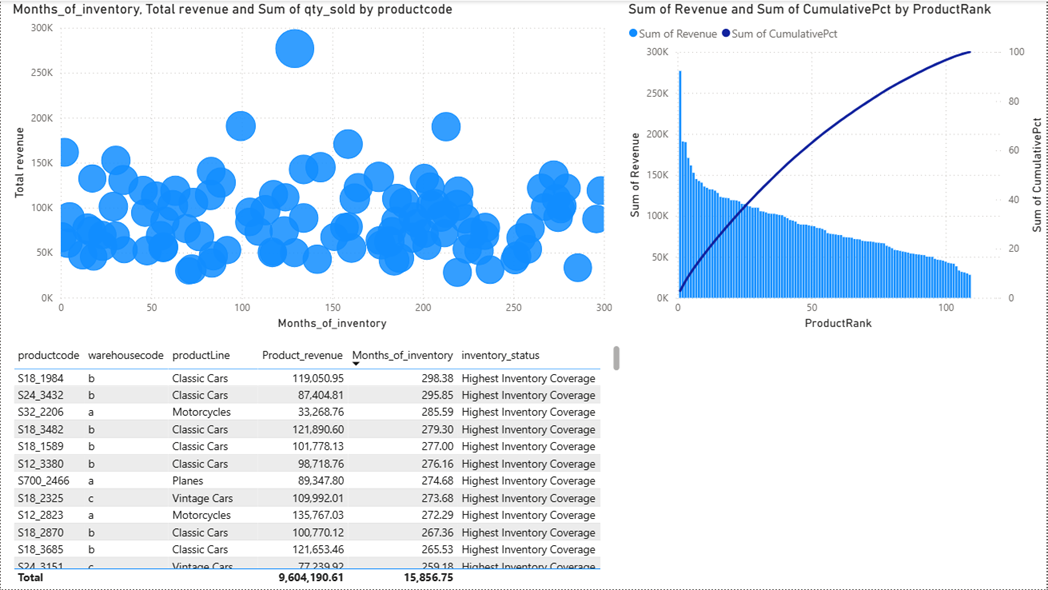

Layout of this report page (visuals, bound fields, positions):
{"tool":"powerbi","page":{"name":"Page 2","canvas":[1280,720],"ordinal":1},"visuals":[{"type":"scatterChart","fields":{"X":["Sum(Product.months_of_inventory)"],"Y":["Sum(Product.product_revenue)"],"Category":["Product.productcode"],"Size":["Sum(Product.qty_sold)"]},"box":[9.8,0,743.5,407.2],"z":0},{"type":"tableEx","fields":{"Values":["Product.productcode","Product.warehousecode","Product.productLine","Sum(Product.product_revenue)","Sum(Product.months_of_inventory)","Product.inventory_status"]},"box":[9.8,417,753.3,303.3],"z":1000},{"type":"lineClusteredColumnComboChart","fields":{"Y2":["Sum(Pareto2.CumulativePct)"],"Y":["Sum(Pareto2.Revenue)"],"Category":["Pareto2.ProductRank"]},"box":[763,0,517.3,407.2],"z":2000}]}

Visuals, with their boxes in screenshot pixels (x1, y1, x2, y2), scaled from the page's 1280x720 canvas onto the 1048x590 screenshot:
scatterChart - Sum(Product.months_of_inventory) x Sum(Product.product_revenue): <bbox>8, 0, 617, 334</bbox>
tableEx - Product.productcode x Product.warehousecode: <bbox>8, 342, 625, 589</bbox>
lineClusteredColumnComboChart - Sum(Pareto2.CumulativePct) x Sum(Pareto2.Revenue): <bbox>625, 0, 1047, 334</bbox>
